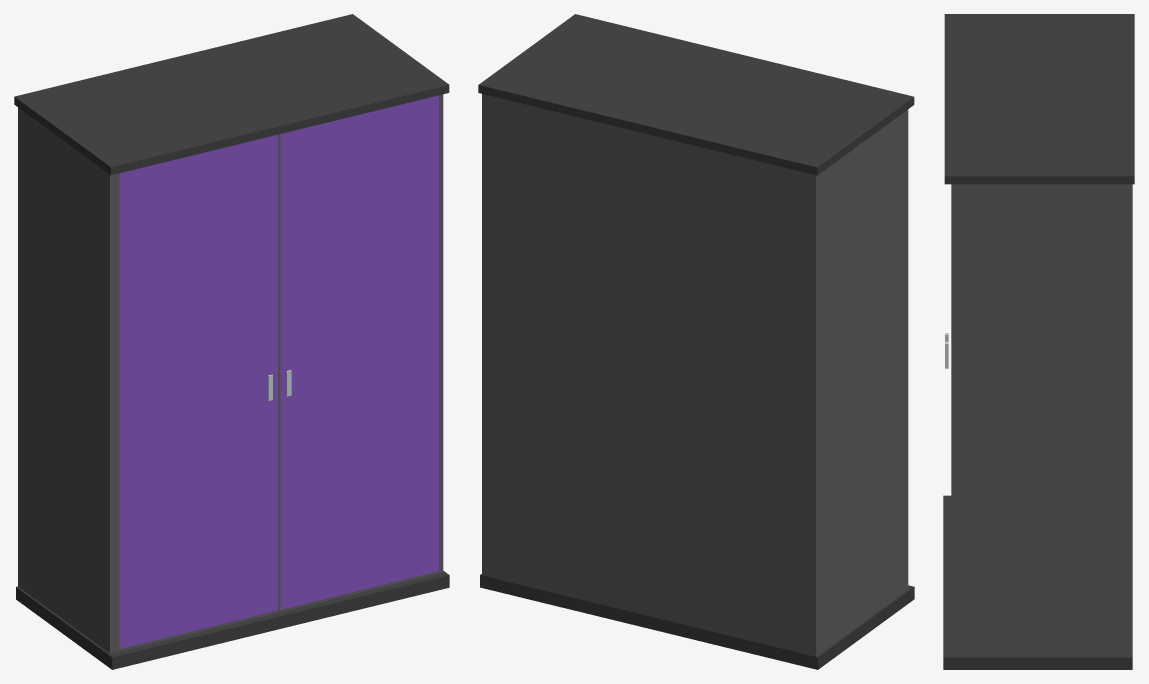
File: closet_015.glb
The picture shows the model from 3 angles, left to right: view 1: azimuth 30°, elevation 25°; view 2: azimuth 150°, elevation 25°; view 3: azimuth 270°, elevation 25°; orthographic projection.
Visible parts, largest first — view 1: closet_015; view 2: closet_015; view 3: closet_015.
Part boxes in pixels (<box>): closet_015: <box>14,14,449,669</box>; closet_015: <box>478,14,914,669</box>; closet_015: <box>943,14,1134,669</box>.
Bounding box in the file's own units: 1.25 × 1.78 × 0.6249.
Materials: 1 (1 with a texture image).
